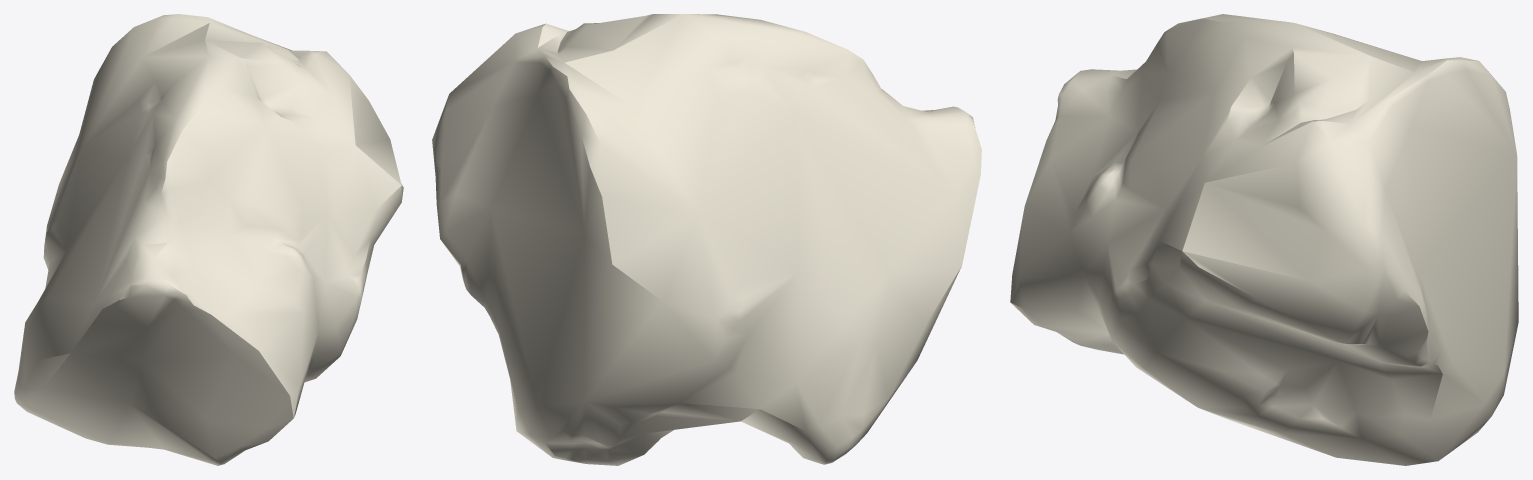
The model's file is fma24528_fj3364.glb.
The picture shows the model from 3 angles, left to right: view 1: azimuth 30°, elevation 25°; view 2: azimuth 150°, elevation 25°; view 3: azimuth 270°, elevation 25°; orthographic projection. The views are drawn at different scales.
Parts seen in each view (by area): view 1: FMA24528_FJ3364; view 2: FMA24528_FJ3364; view 3: FMA24528_FJ3364.
Boxes of the visible parts, x1,y1,x2,y2 form: FMA24528_FJ3364: [14, 14, 403, 465]; FMA24528_FJ3364: [432, 14, 981, 465]; FMA24528_FJ3364: [1010, 14, 1518, 465].
Bounding box in the file's own units: 0.0327 × 0.029 × 0.033.
